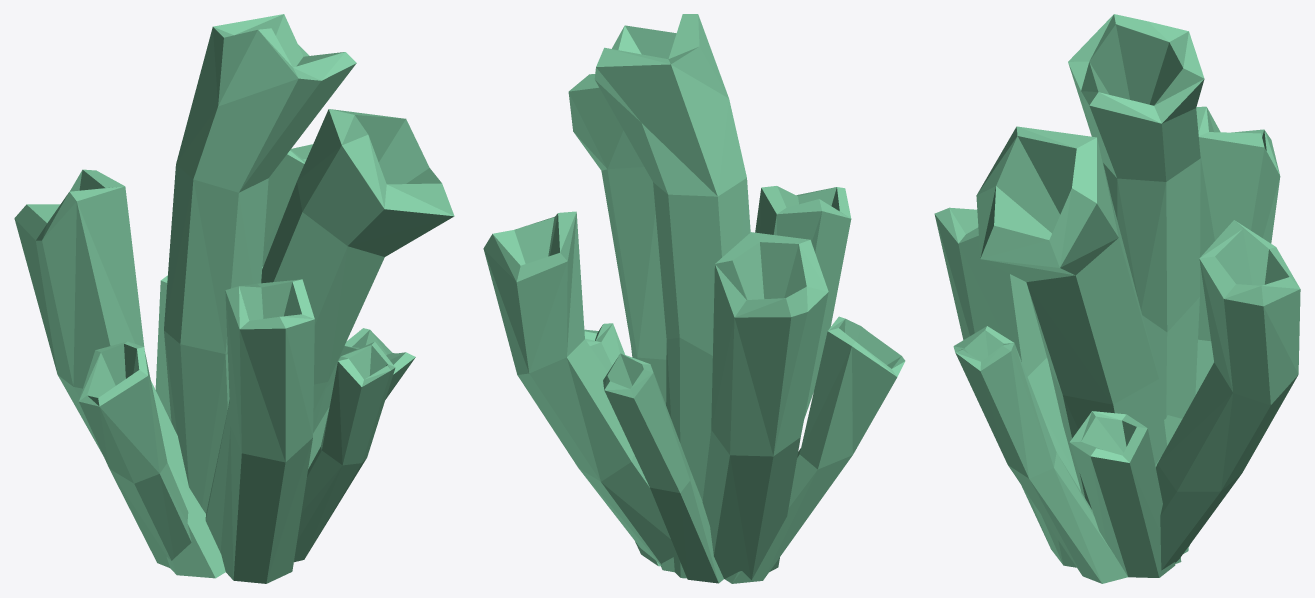
Rendered from Coral11.fbx.
3 views of the same model, side by side, from view 1: azimuth 30°, elevation 25°; view 2: azimuth 150°, elevation 25°; view 3: azimuth 270°, elevation 25° (orthographic). The views are drawn at different scales.
Visible parts, largest first — view 1: Coral11; view 2: Coral11; view 3: Coral11.
Part boxes in pixels (left/top/right/bottom): Coral11: left=14, top=14, right=454, bottom=583; Coral11: left=483, top=14, right=905, bottom=583; Coral11: left=934, top=14, right=1300, bottom=583.
Size of the model in its own units: 1.31 by 1.95 by 1.18.
